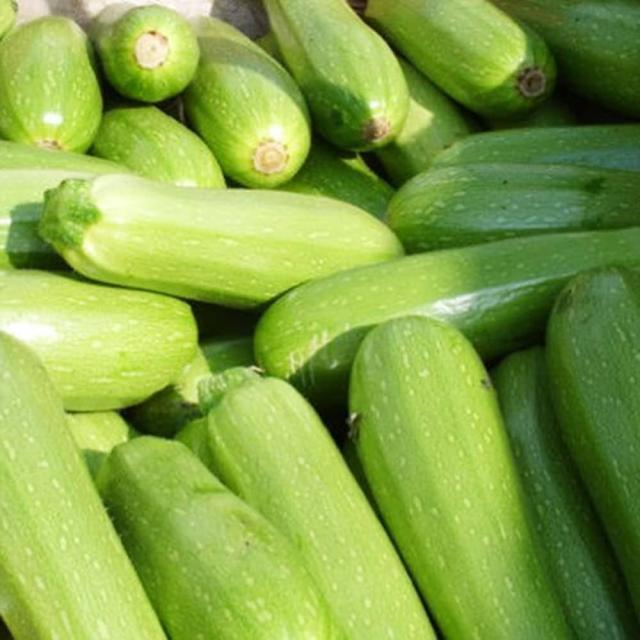Zucchini: (39, 168, 416, 300)
